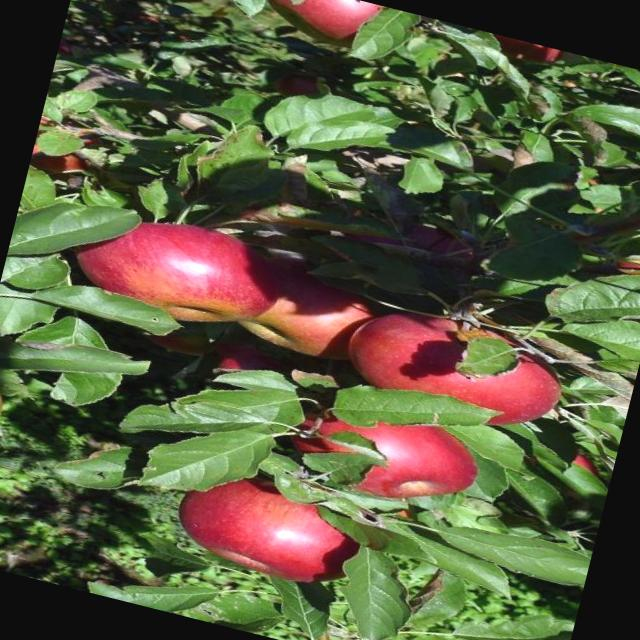Apple: (54, 196, 292, 344), (338, 297, 563, 436), (166, 458, 379, 597), (272, 386, 484, 517), (241, 261, 370, 366), (241, 0, 381, 55), (483, 32, 566, 70)
